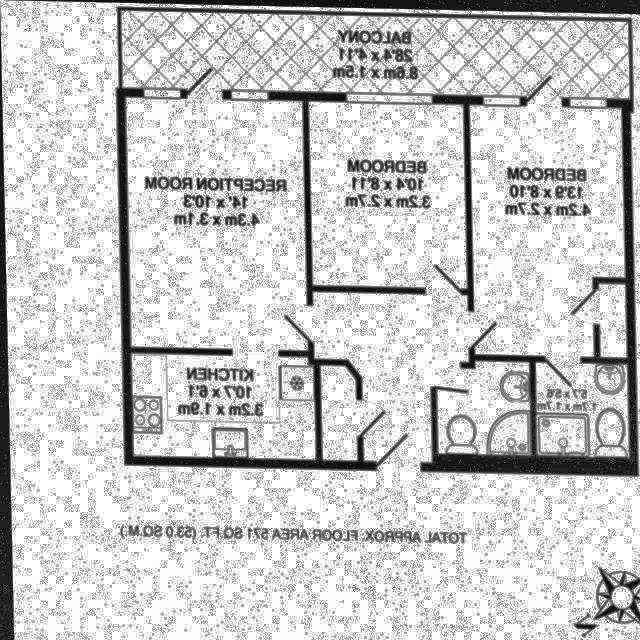room: (124, 93, 306, 353), (469, 100, 626, 358), (308, 97, 466, 289), (309, 291, 468, 461), (128, 352, 316, 459), (532, 360, 629, 454), (435, 358, 529, 454), (319, 363, 356, 461)
